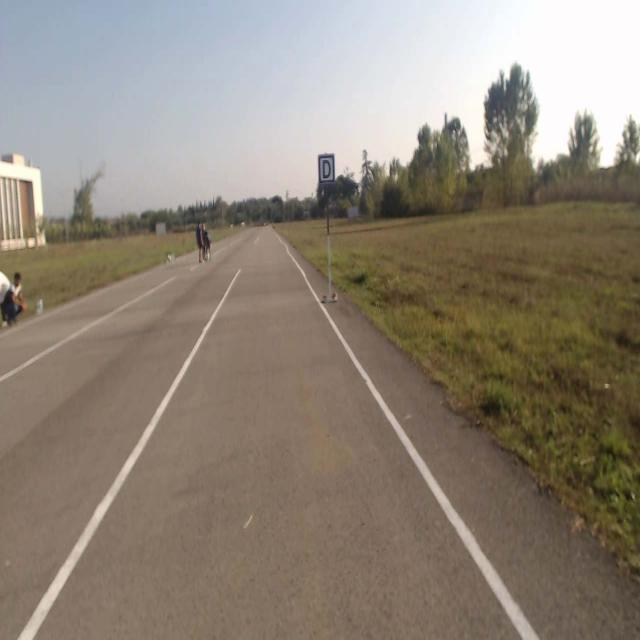durak: (318, 154, 335, 184)
